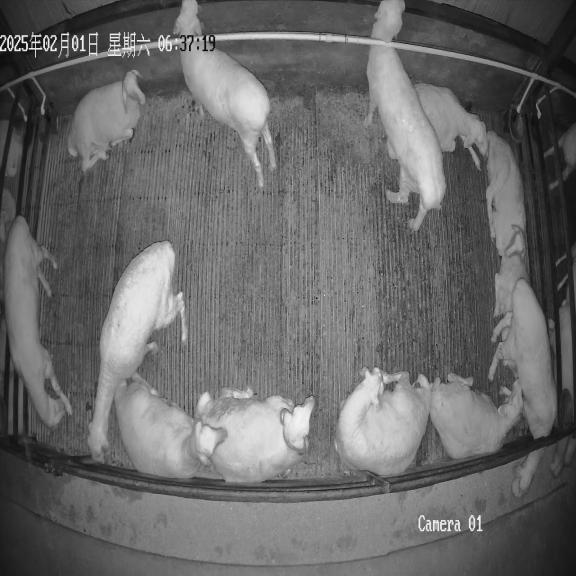eating: (488, 279, 557, 497)
lying: (114, 377, 227, 478), (197, 388, 315, 483), (334, 367, 431, 478), (430, 372, 523, 459), (67, 70, 146, 172), (414, 83, 487, 169), (482, 131, 527, 263), (494, 252, 529, 317)
stand: (88, 241, 188, 460), (173, 0, 276, 188), (365, 0, 446, 231), (4, 216, 72, 428)
